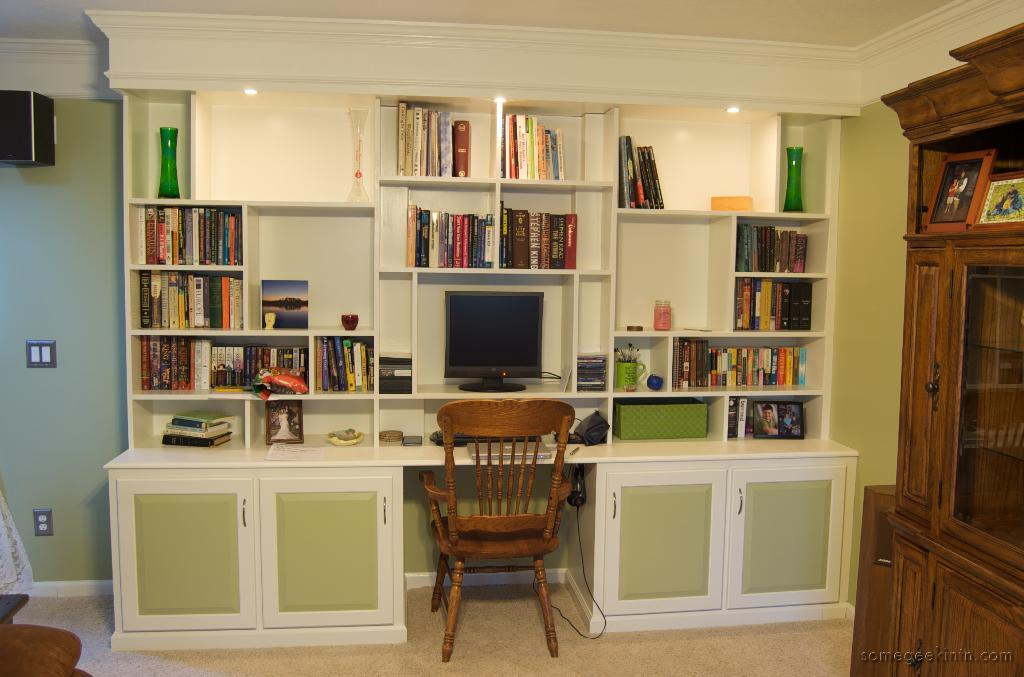Book: (139, 337, 308, 393), (671, 334, 808, 396), (131, 201, 240, 267), (136, 271, 243, 331), (400, 201, 493, 268), (394, 102, 472, 178), (499, 196, 576, 267), (499, 112, 565, 179), (735, 279, 815, 331), (733, 221, 806, 272), (311, 338, 376, 392), (618, 135, 666, 208), (160, 410, 240, 447), (575, 351, 604, 392), (724, 392, 749, 437)
Chair: (410, 393, 592, 664)
Computer-monitor: (439, 286, 545, 391)
